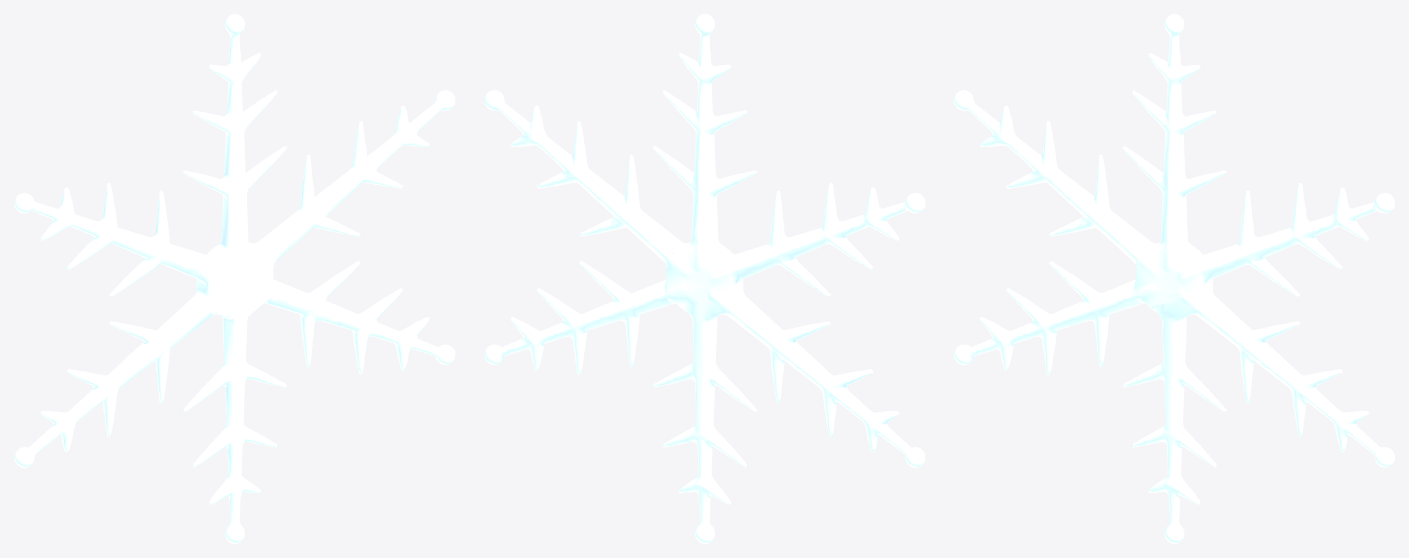
The model's file is emb_floco.glb.
3 views of the same model, side by side, from view 1: azimuth 30°, elevation 25°; view 2: azimuth 150°, elevation 25°; view 3: azimuth 330°, elevation 25° (orthographic).
Visible parts, largest first — view 1: emb_floco; view 2: emb_floco; view 3: emb_floco.
Boxes of the visible parts, left/top/right/bottom form: emb_floco: left=14, top=14, right=455, bottom=543; emb_floco: left=484, top=14, right=925, bottom=543; emb_floco: left=954, top=14, right=1394, bottom=543.
Bounding box in the file's own units: 0.1154 × 0.1326 × 0.00663.
